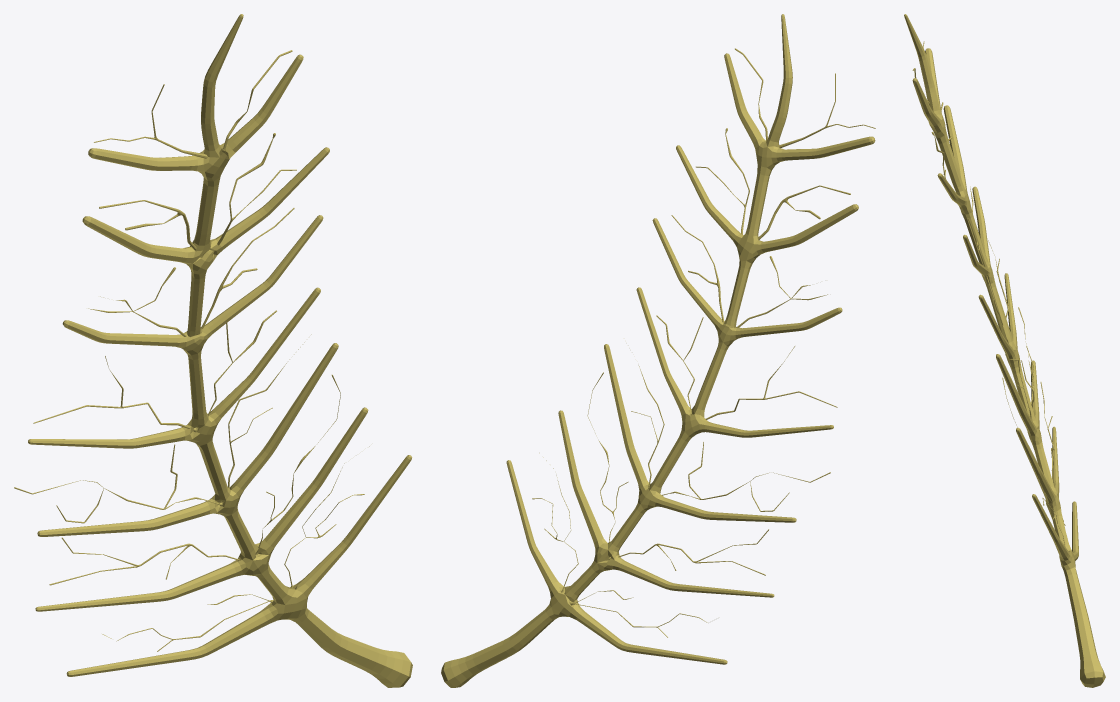
File: Tulang_daun_Menyirip.fbx
The picture shows the model from 3 angles, left to right: view 1: azimuth 30°, elevation 25°; view 2: azimuth 150°, elevation 25°; view 3: azimuth 270°, elevation 25°; orthographic projection. The views are drawn at different scales.
Parts seen in each view (by area): view 1: Cube; view 2: Cube; view 3: Cube.
Part boxes in pixels (bbox=[...]): Cube: bbox=[14, 14, 412, 687]; Cube: bbox=[441, 14, 875, 687]; Cube: bbox=[904, 14, 1105, 687].
Size of the model in its own units: 676 by 1212 by 384.
